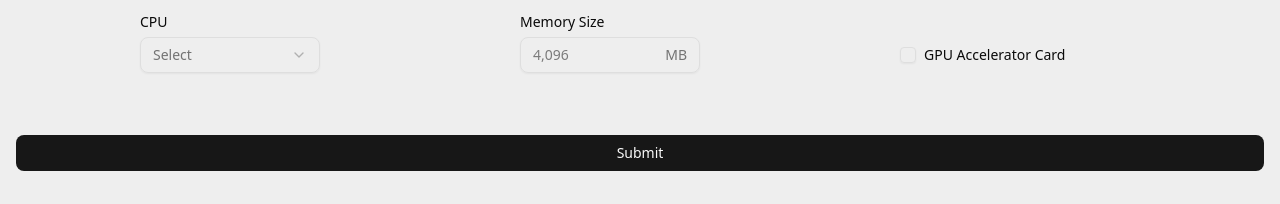
Test: Server composer form › Select CPU option
Step 1. Click the dropdown named "cpu" → point(230, 55), box [140, 37, 320, 73]
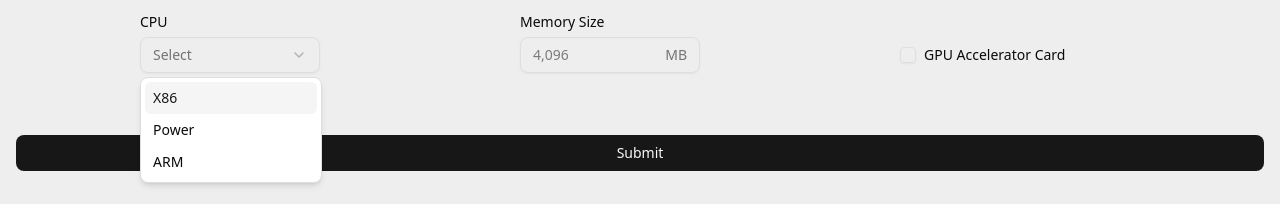
Step 2. Click the option "X86" → point(231, 98), box [145, 82, 317, 114]
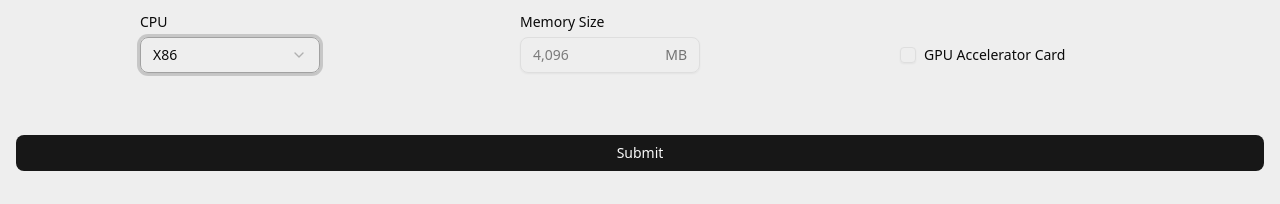
Expected: the text "X86" is shown, [153, 45, 177, 65]
